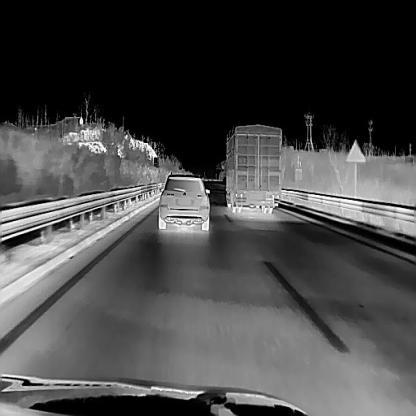car: (220, 123, 281, 213), (157, 170, 209, 230)
